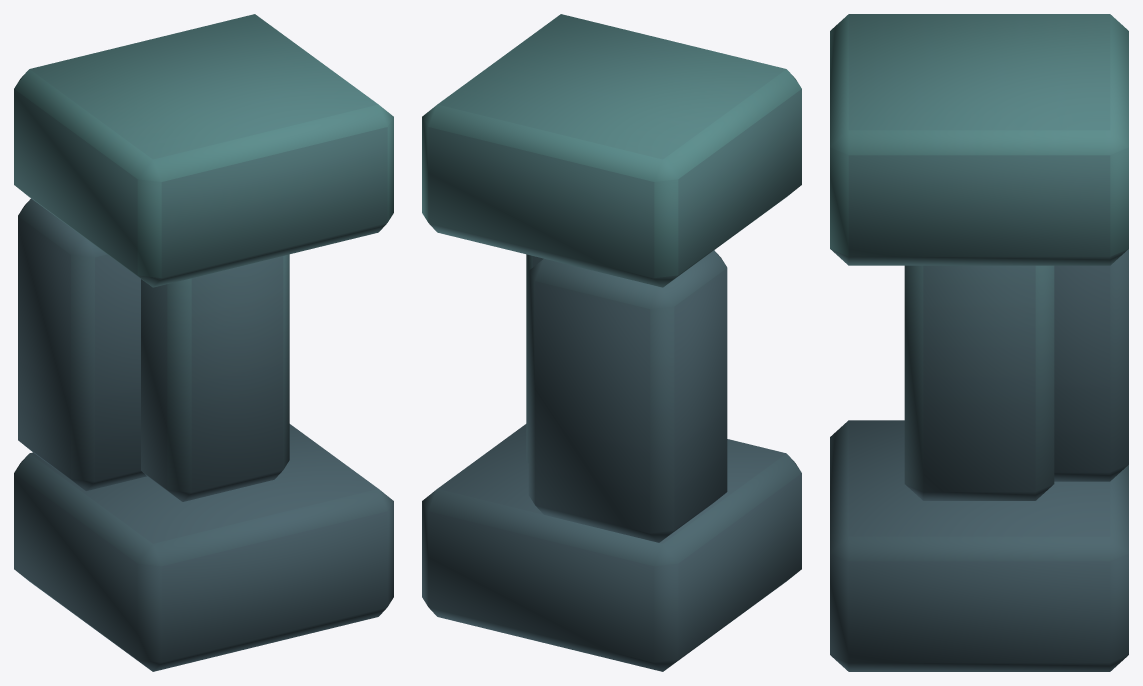
Rendered from wall_pannel_corner_hue_1.fbx.
3 views of the same model, side by side, from view 1: azimuth 30°, elevation 25°; view 2: azimuth 150°, elevation 25°; view 3: azimuth 270°, elevation 25° (orthographic). The views are drawn at different scales.
Visible parts, largest first — view 1: wall_pannel_corner_hue_1; view 2: wall_pannel_corner_hue_1; view 3: wall_pannel_corner_hue_1.
Boxes of the visible parts, left/top/right/bottom form: wall_pannel_corner_hue_1: left=14, top=14, right=393, bottom=671; wall_pannel_corner_hue_1: left=422, top=14, right=801, bottom=671; wall_pannel_corner_hue_1: left=830, top=14, right=1128, bottom=671.
Bounding box in the file's own units: 52.34 × 100 × 50.
